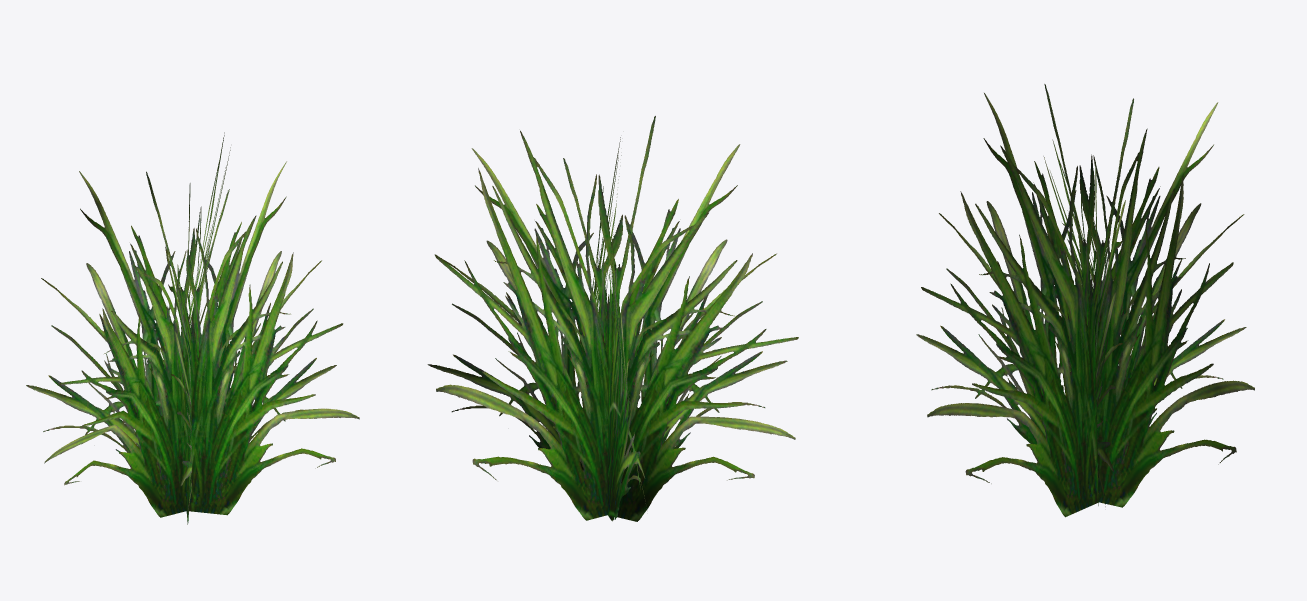
File: obj__flax1g.obj
3 renders of one model, left to right at view 1: azimuth 30°, elevation 25°; view 2: azimuth 150°, elevation 25°; view 3: azimuth 270°, elevation 25°, orthographic. The views are drawn at different scales.
Parts seen in each view (by area): view 1: flax1g.tga; view 2: flax1g.tga; view 3: flax1g.tga.
Boxes of the visible parts, x1,y1,x2,y2 form: flax1g.tga: [26, 132, 359, 524]; flax1g.tga: [427, 116, 798, 521]; flax1g.tga: [916, 84, 1254, 517].
Bounding box in the file's own units: 95.02 × 108 × 83.77.
1 material, 1 textured.
